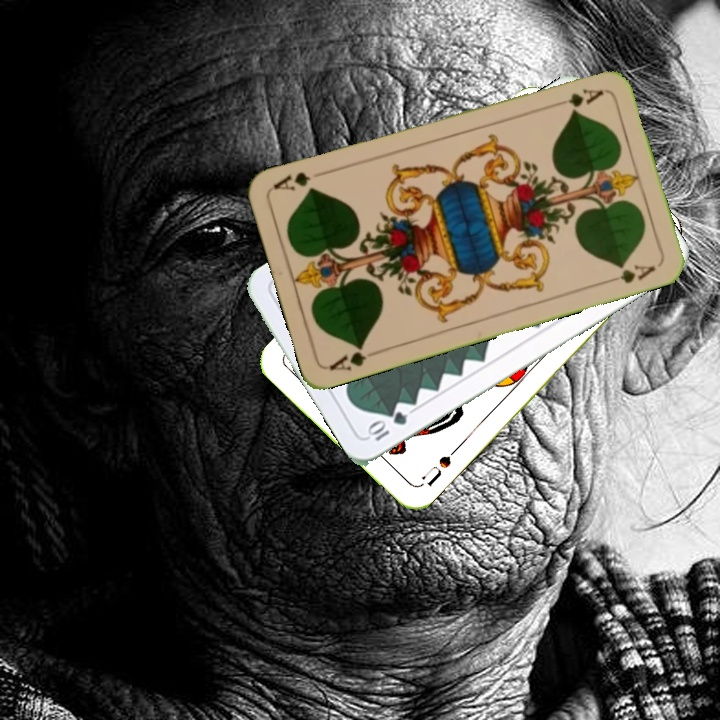G10: (363, 407, 410, 444)
GA: (325, 340, 383, 374), (548, 85, 606, 110)
SU: (417, 443, 461, 489)
